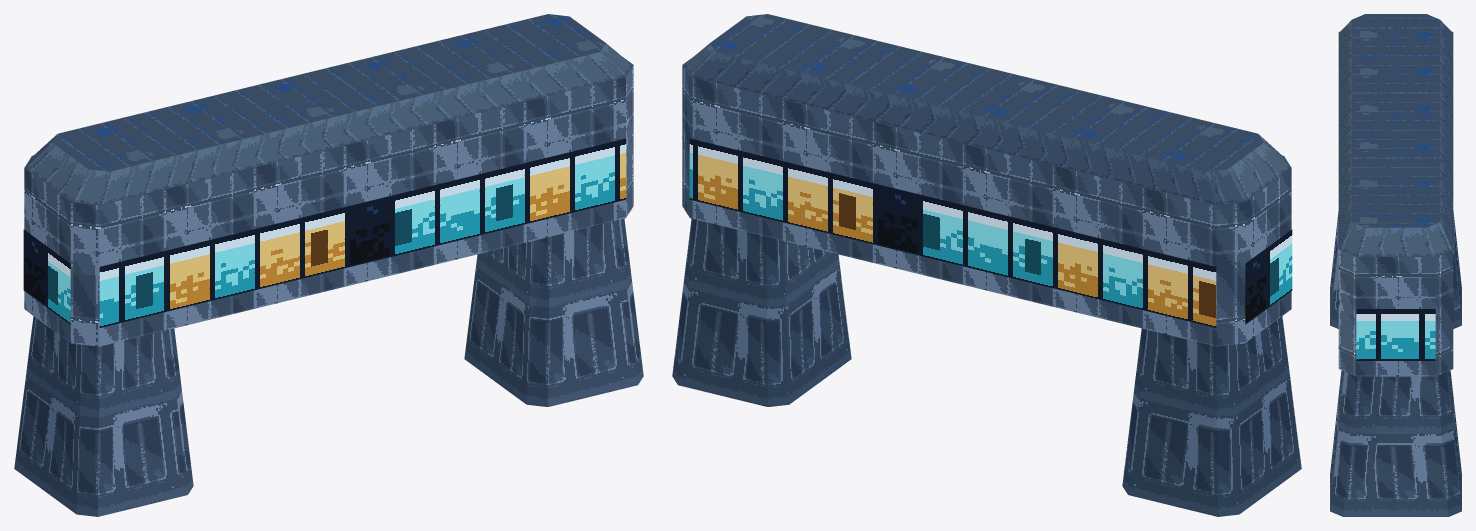
The model's file is cytower.arch__low.glb.
3 views of the same model, side by side, from view 1: azimuth 30°, elevation 25°; view 2: azimuth 150°, elevation 25°; view 3: azimuth 270°, elevation 25° (orthographic). The views are drawn at different scales.
Parts seen in each view (by area): view 1: kit_arch, kit_card_windows; view 2: kit_arch, kit_card_windows; view 3: kit_arch, kit_card_windows.
Boxes of the visible parts, <box> form: kit_arch: <box>14,14,643,516</box>; kit_card_windows: <box>23,138,626,327</box>; kit_arch: <box>672,14,1301,516</box>; kit_card_windows: <box>689,138,1292,327</box>; kit_arch: <box>1330,14,1461,516</box>; kit_card_windows: <box>1356,309,1435,360</box>.
Bounding box in the file's own units: 25.2 × 14 × 6.
6 materials, 6 textured.
